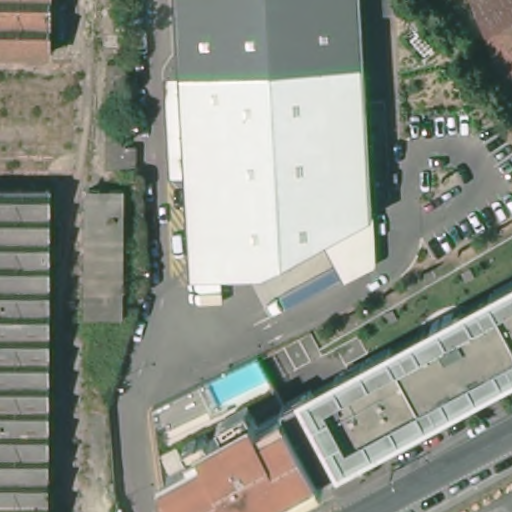pool: (205, 361, 268, 407)
